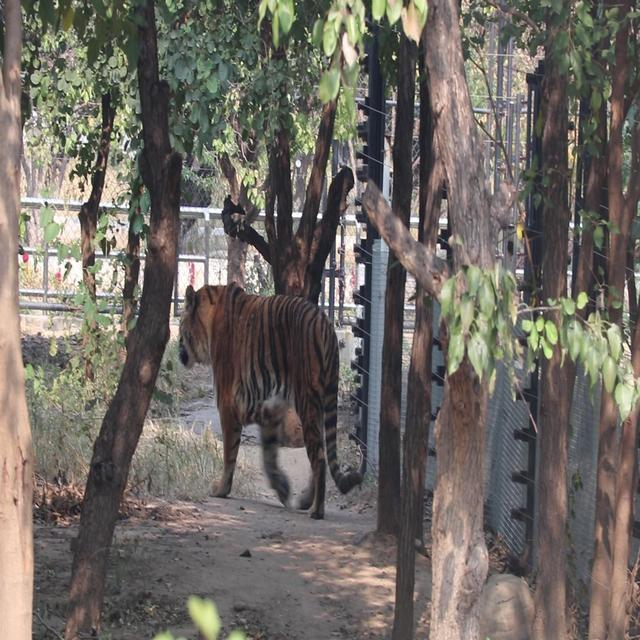tiger: (176, 280, 364, 519)
